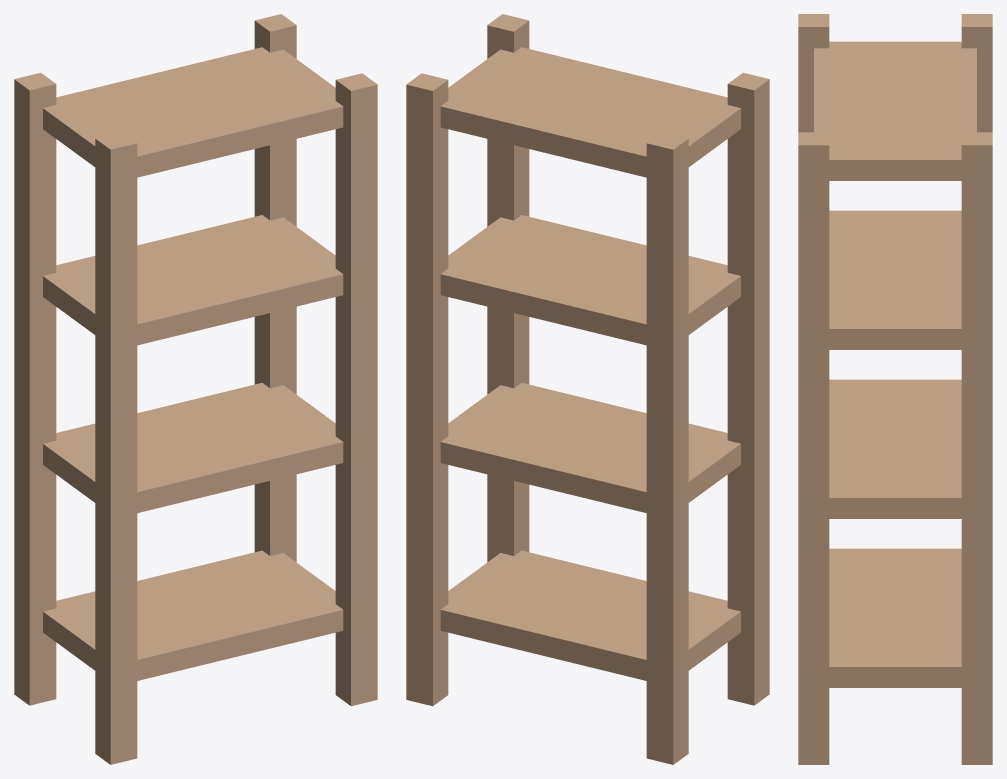
Rendered from bookcaseOpen.glb.
3 views of the same model, side by side, from view 1: azimuth 30°, elevation 25°; view 2: azimuth 150°, elevation 25°; view 3: azimuth 270°, elevation 25° (orthographic).
Parts seen in each view (by area): view 1: bookcaseOpen; view 2: bookcaseOpen; view 3: bookcaseOpen.
Boxes of the visible parts, x1=… form: bookcaseOpen: x1=14, y1=14, x2=377, y2=764; bookcaseOpen: x1=406, y1=14, x2=769, y2=764; bookcaseOpen: x1=798, y1=14, x2=992, y2=764.
Bounding box in the file's own units: 0.4 × 0.88 × 0.25.
